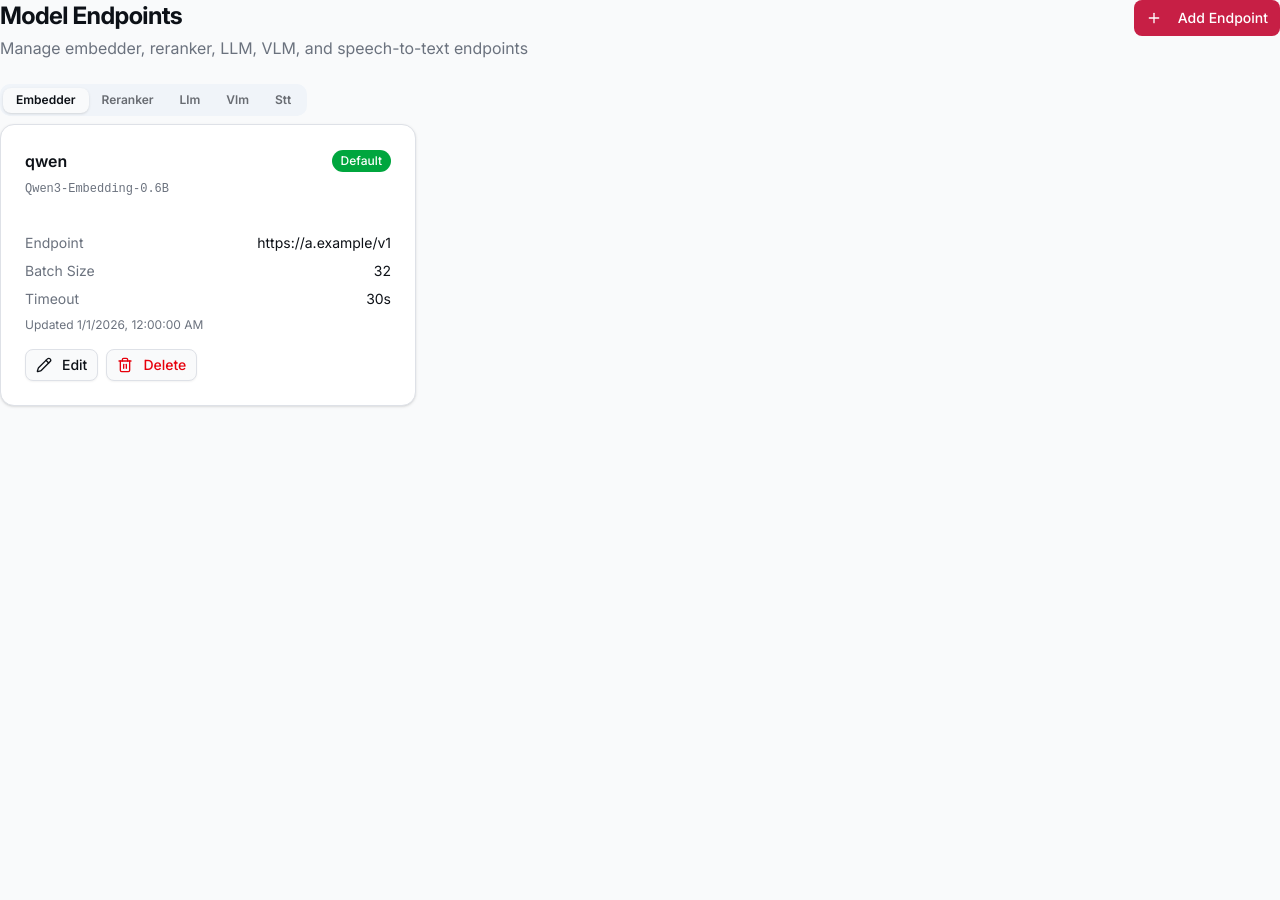
it: ModelsPage embedder edit guard (#762 C) › opens an embedder no partition uses straight into the form
Expected: the text "Qwen3-Embedding-0.6B" is shown, [25, 182, 169, 196]
What coordinates should you click on to do the following:
click the button "Edit"
I would click on:
 (62, 365)
Its box is [25, 349, 98, 381].
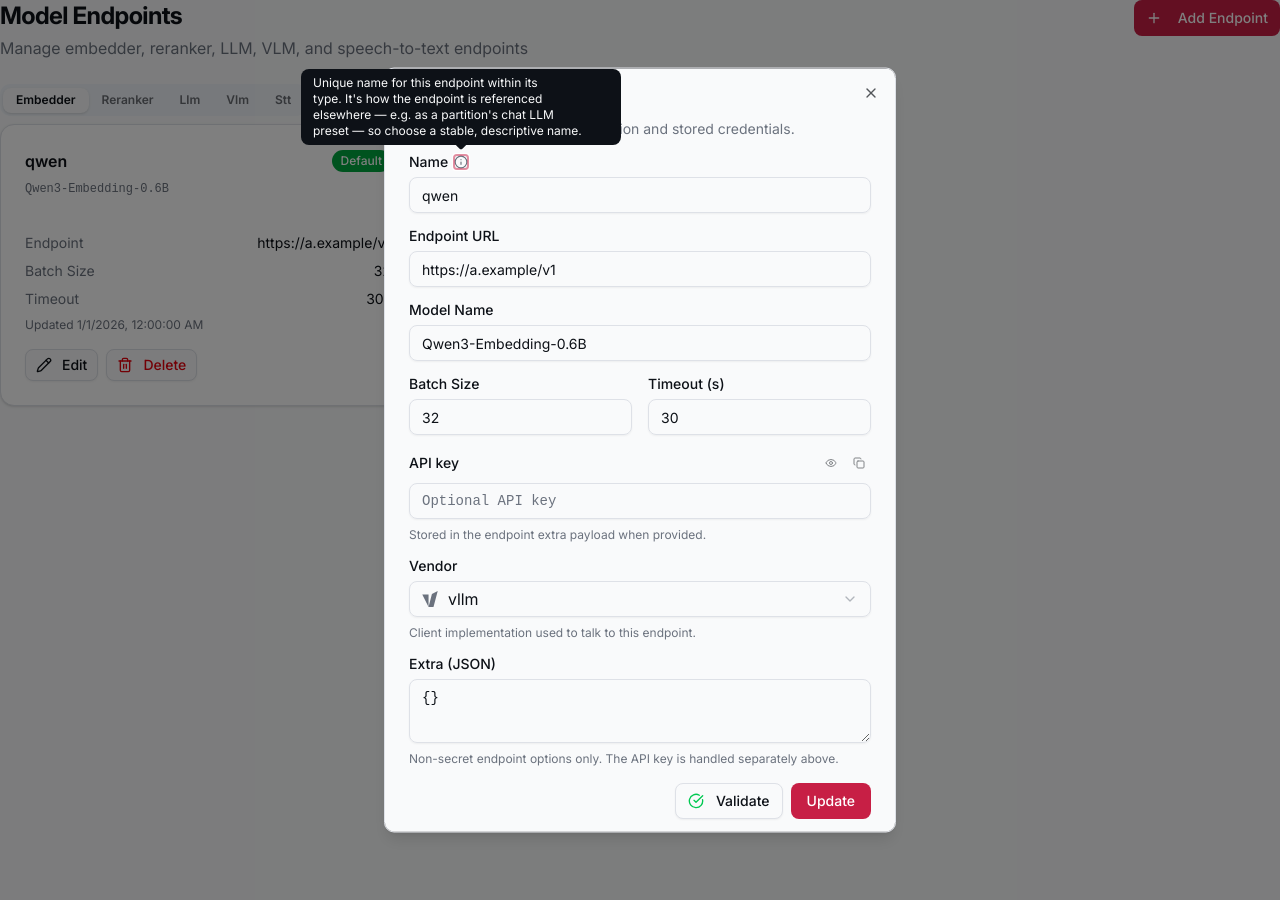
Expected: the dialog is shown, [384, 68, 896, 832]
